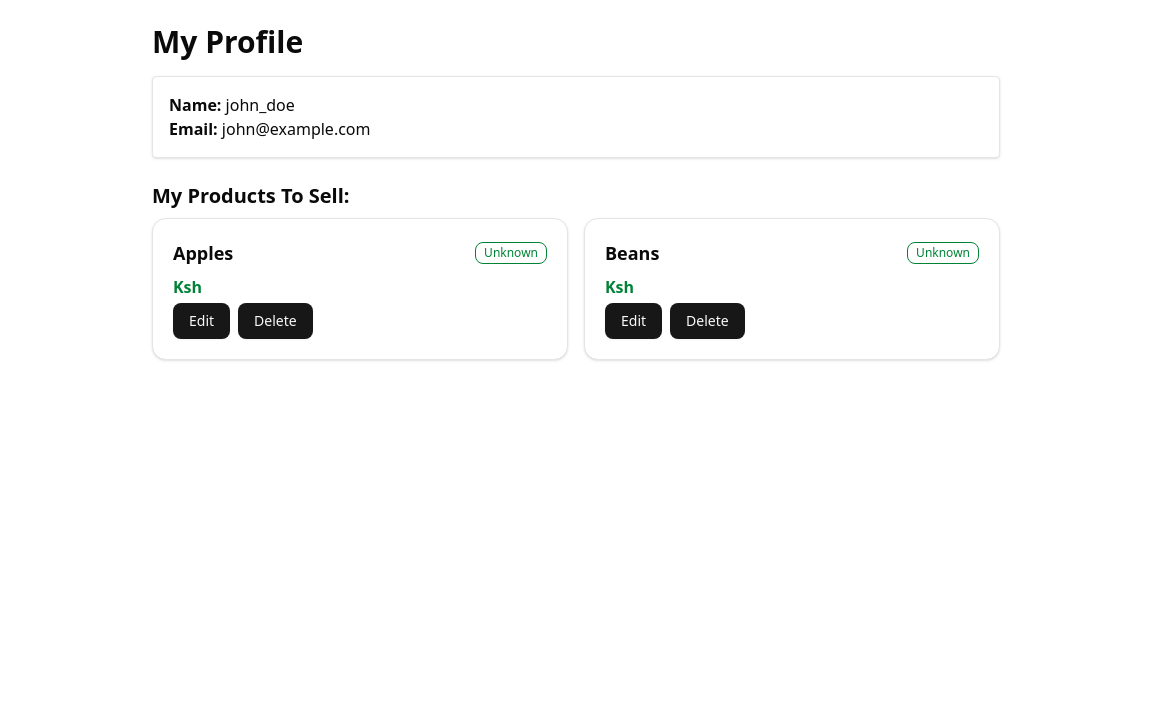
Test: UserProfile Page › clicks edit and shows form
Expected: the heading "Apples" is shown, [173, 239, 233, 267]
Click the button "Edit" below "Apples" at coordinates (202, 321), box [173, 303, 230, 339]
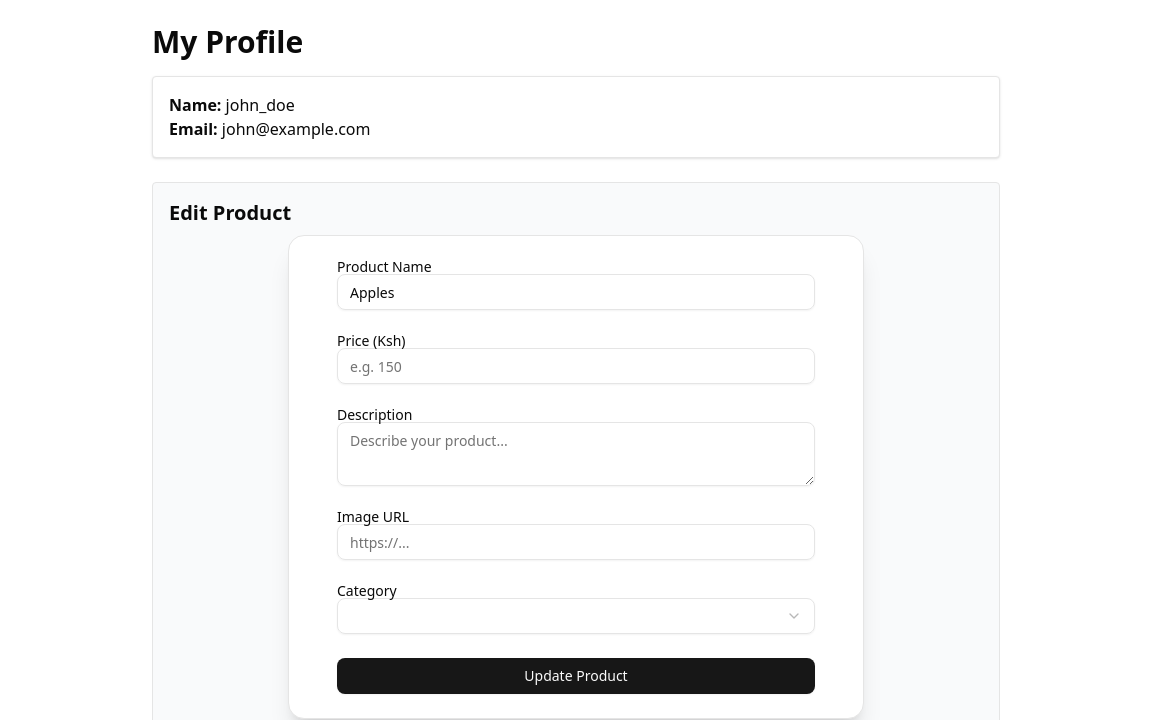
Result: the heading "Edit Product" is shown at [169, 199, 291, 226]
